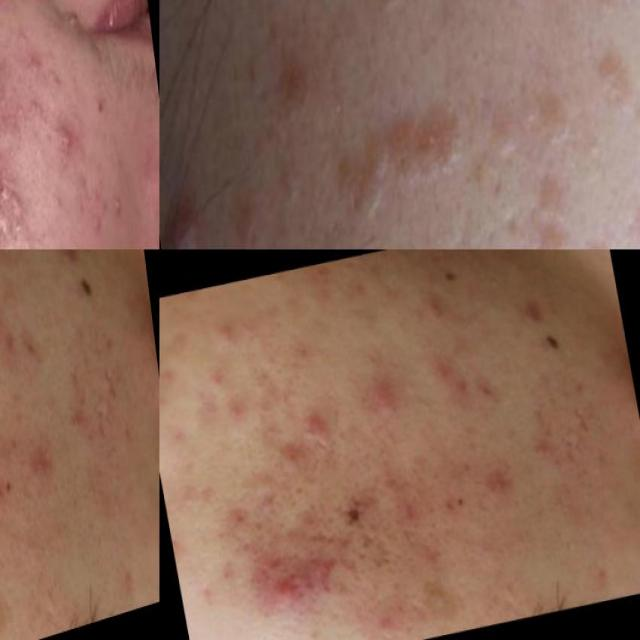8: (351, 365, 403, 425), (256, 566, 314, 613), (292, 396, 338, 452), (203, 302, 246, 354), (422, 356, 458, 396), (0, 305, 6, 354)
9: (474, 456, 516, 509), (21, 430, 55, 495)
blackheads: (331, 486, 388, 532), (0, 163, 28, 249), (296, 519, 346, 561), (51, 108, 72, 157), (24, 97, 46, 122)
